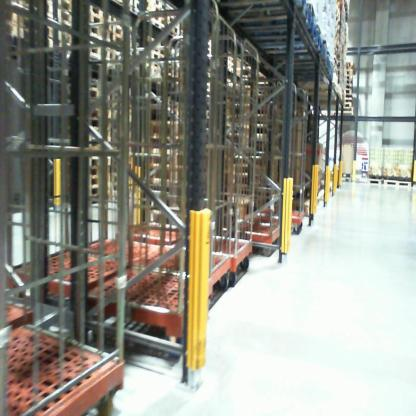pallet: (225, 1, 313, 34), (226, 15, 316, 42), (252, 34, 324, 56), (62, 36, 111, 63), (67, 22, 110, 43), (33, 19, 66, 46), (71, 66, 111, 87), (148, 15, 182, 38), (37, 3, 73, 24), (60, 86, 112, 100), (353, 173, 384, 189), (85, 116, 118, 131), (144, 63, 171, 80), (109, 47, 129, 69), (80, 176, 111, 190), (146, 52, 171, 69), (87, 14, 115, 29), (110, 20, 133, 38), (111, 32, 131, 52), (79, 155, 111, 167), (84, 166, 111, 178), (329, 173, 353, 185), (384, 176, 412, 185), (330, 108, 356, 117), (346, 56, 357, 75), (343, 104, 352, 110), (345, 89, 353, 95), (345, 99, 352, 105), (345, 94, 353, 99), (345, 84, 353, 89), (346, 75, 353, 80), (346, 80, 353, 84), (348, 70, 353, 75)
